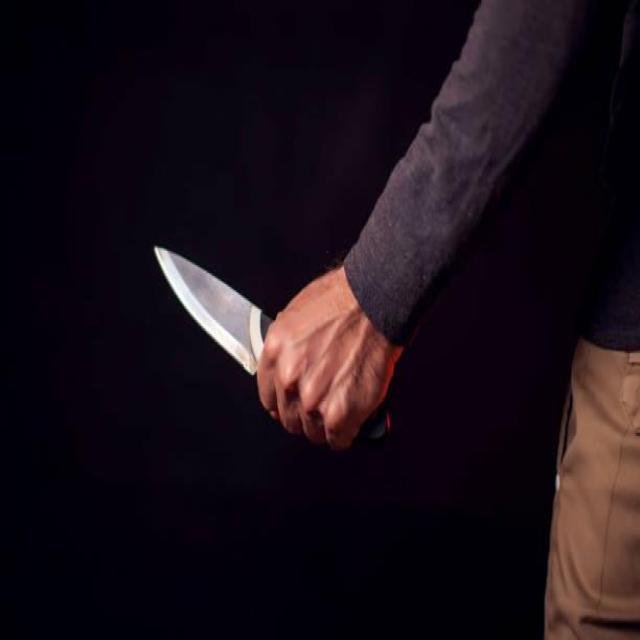faca: (138, 198, 427, 477)
